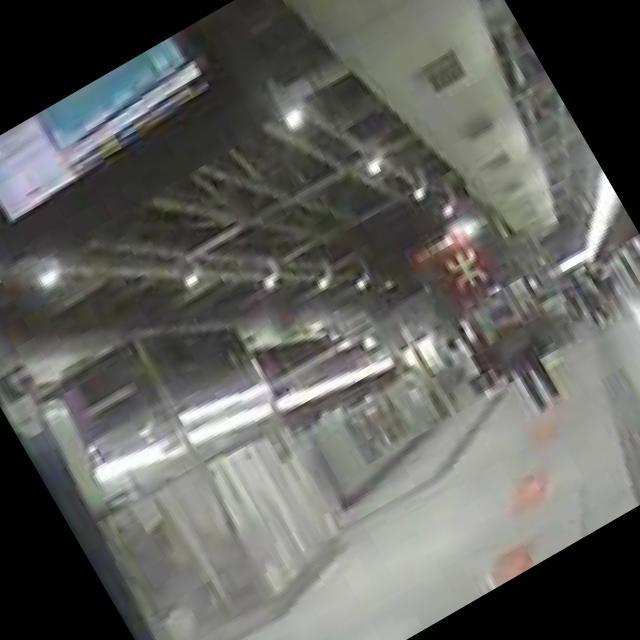person: (466, 280, 576, 422), (432, 330, 496, 406)
